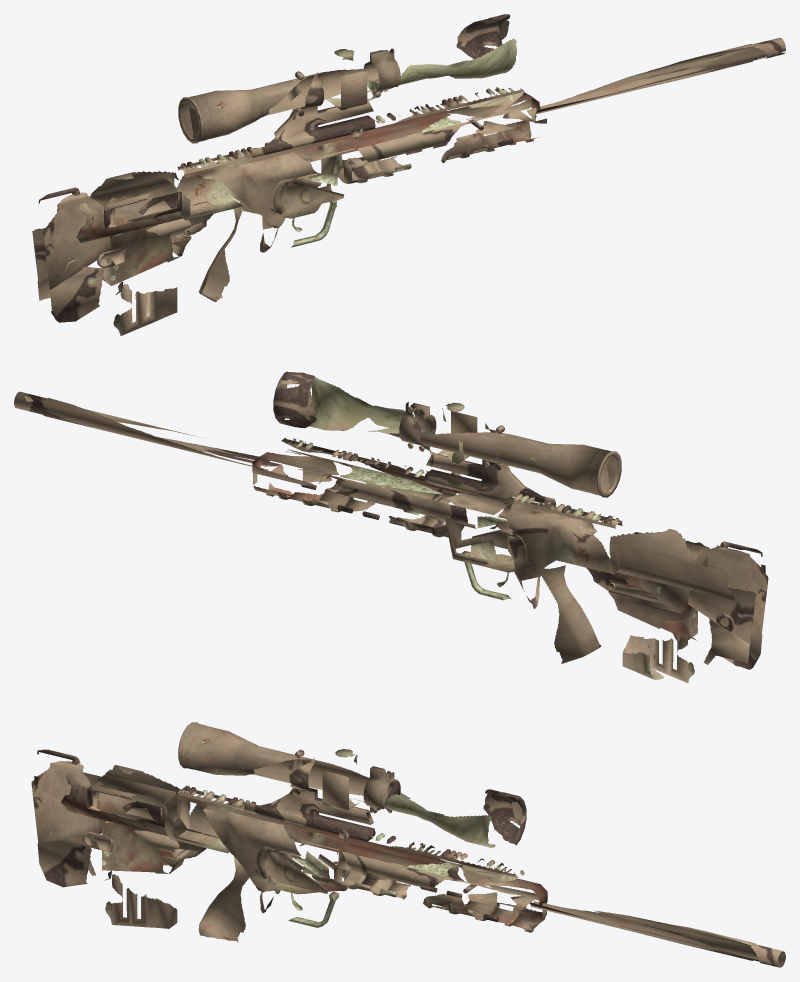
The model's file is DSR 8.fbx.
3 renders of one model, top to bottom at view 1: azimuth 30°, elevation 25°; view 2: azimuth 150°, elevation 25°; view 3: azimuth 330°, elevation 25°, orthographic.
Visible parts, largest first — view 1: main_gun; view 2: main_gun; view 3: main_gun.
Part boxes in pixels (x1,y1,x2,y2): main_gun: (32, 14, 785, 335); main_gun: (14, 371, 768, 683); main_gun: (31, 722, 785, 967).
Bounding box in the file's own units: 9.13 × 2.64 × 0.6155.
